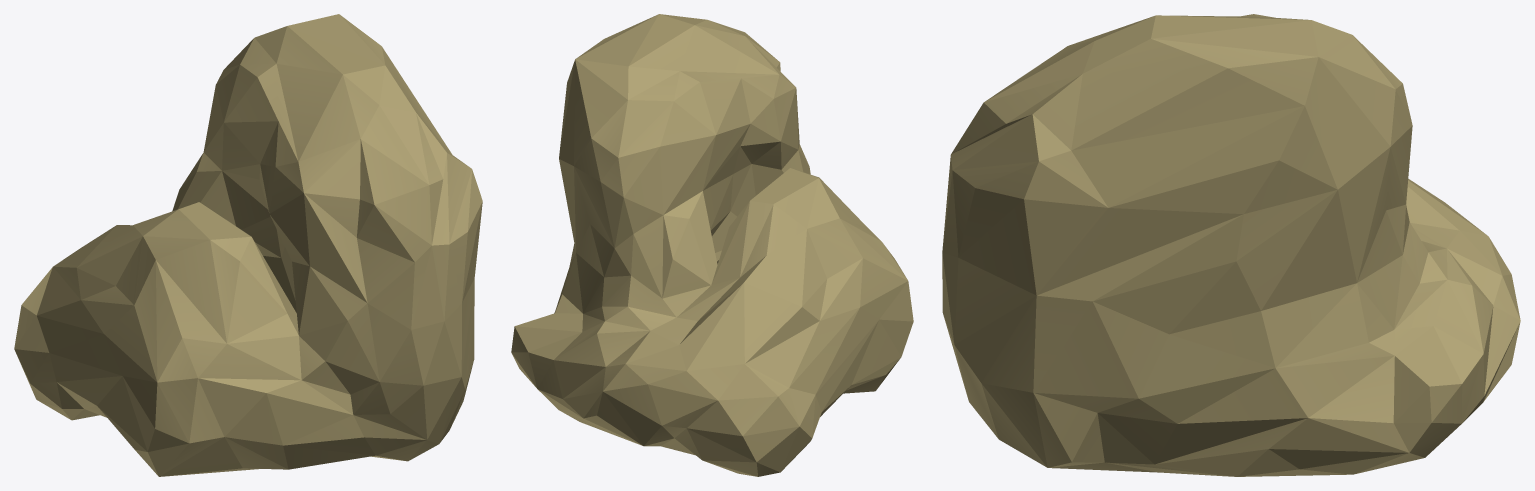
The model's file is SM_rock_88.fbx.
The picture shows the model from 3 angles, left to right: view 1: azimuth 30°, elevation 25°; view 2: azimuth 150°, elevation 25°; view 3: azimuth 270°, elevation 25°; orthographic projection. The views are drawn at different scales.
Visible parts, largest first — view 1: rock_88; view 2: rock_88; view 3: rock_88.
Part boxes in pixels (bbox=[...]): rock_88: bbox=[14, 14, 482, 476]; rock_88: bbox=[511, 14, 913, 476]; rock_88: bbox=[942, 14, 1520, 476].
Size of the model in its own units: 126 by 141 by 164.
